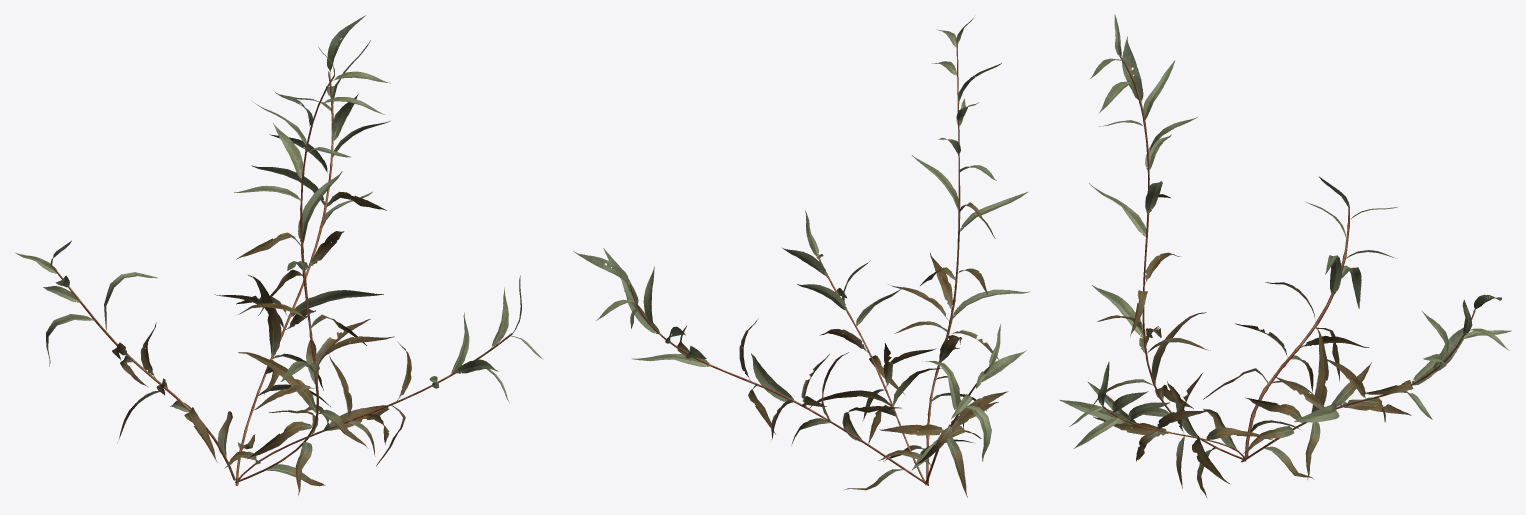
Rendered from Scan_Shrub_D.fbx.
3 renders of one model, left to right at view 1: azimuth 30°, elevation 25°; view 2: azimuth 150°, elevation 25°; view 3: azimuth 270°, elevation 25°, orthographic. The views are drawn at different scales.
Visible parts, largest first — view 1: Scan_Shrub_D_LOD0; view 2: Scan_Shrub_D_LOD0; view 3: Scan_Shrub_D_LOD0.
Boxes of the visible parts, <box> form: Scan_Shrub_D_LOD0: <box>15,15,543,495</box>; Scan_Shrub_D_LOD0: <box>573,18,1030,497</box>; Scan_Shrub_D_LOD0: <box>1059,14,1511,497</box>.
Size of what is drawn, in the model's own units: 1.08 by 1.23 by 1.1.
